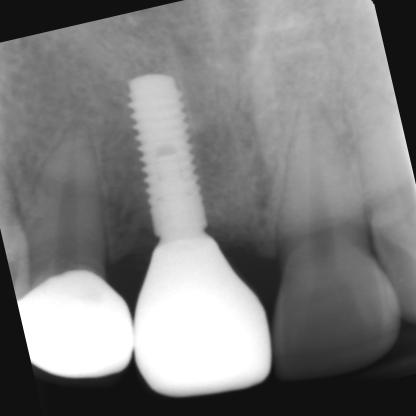ITI: (77, 40, 252, 258)
